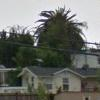Tree: (3, 6, 83, 64)
